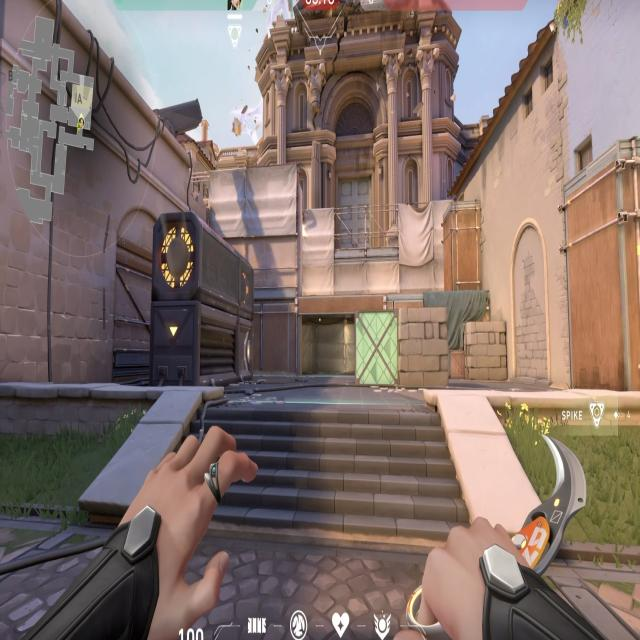A_Heaven_Box: (442, 204, 481, 289)
A_Heaven_Wall: (210, 173, 303, 299)
A_Hell: (286, 304, 397, 381)
A_Site_Box: (352, 309, 449, 386)
